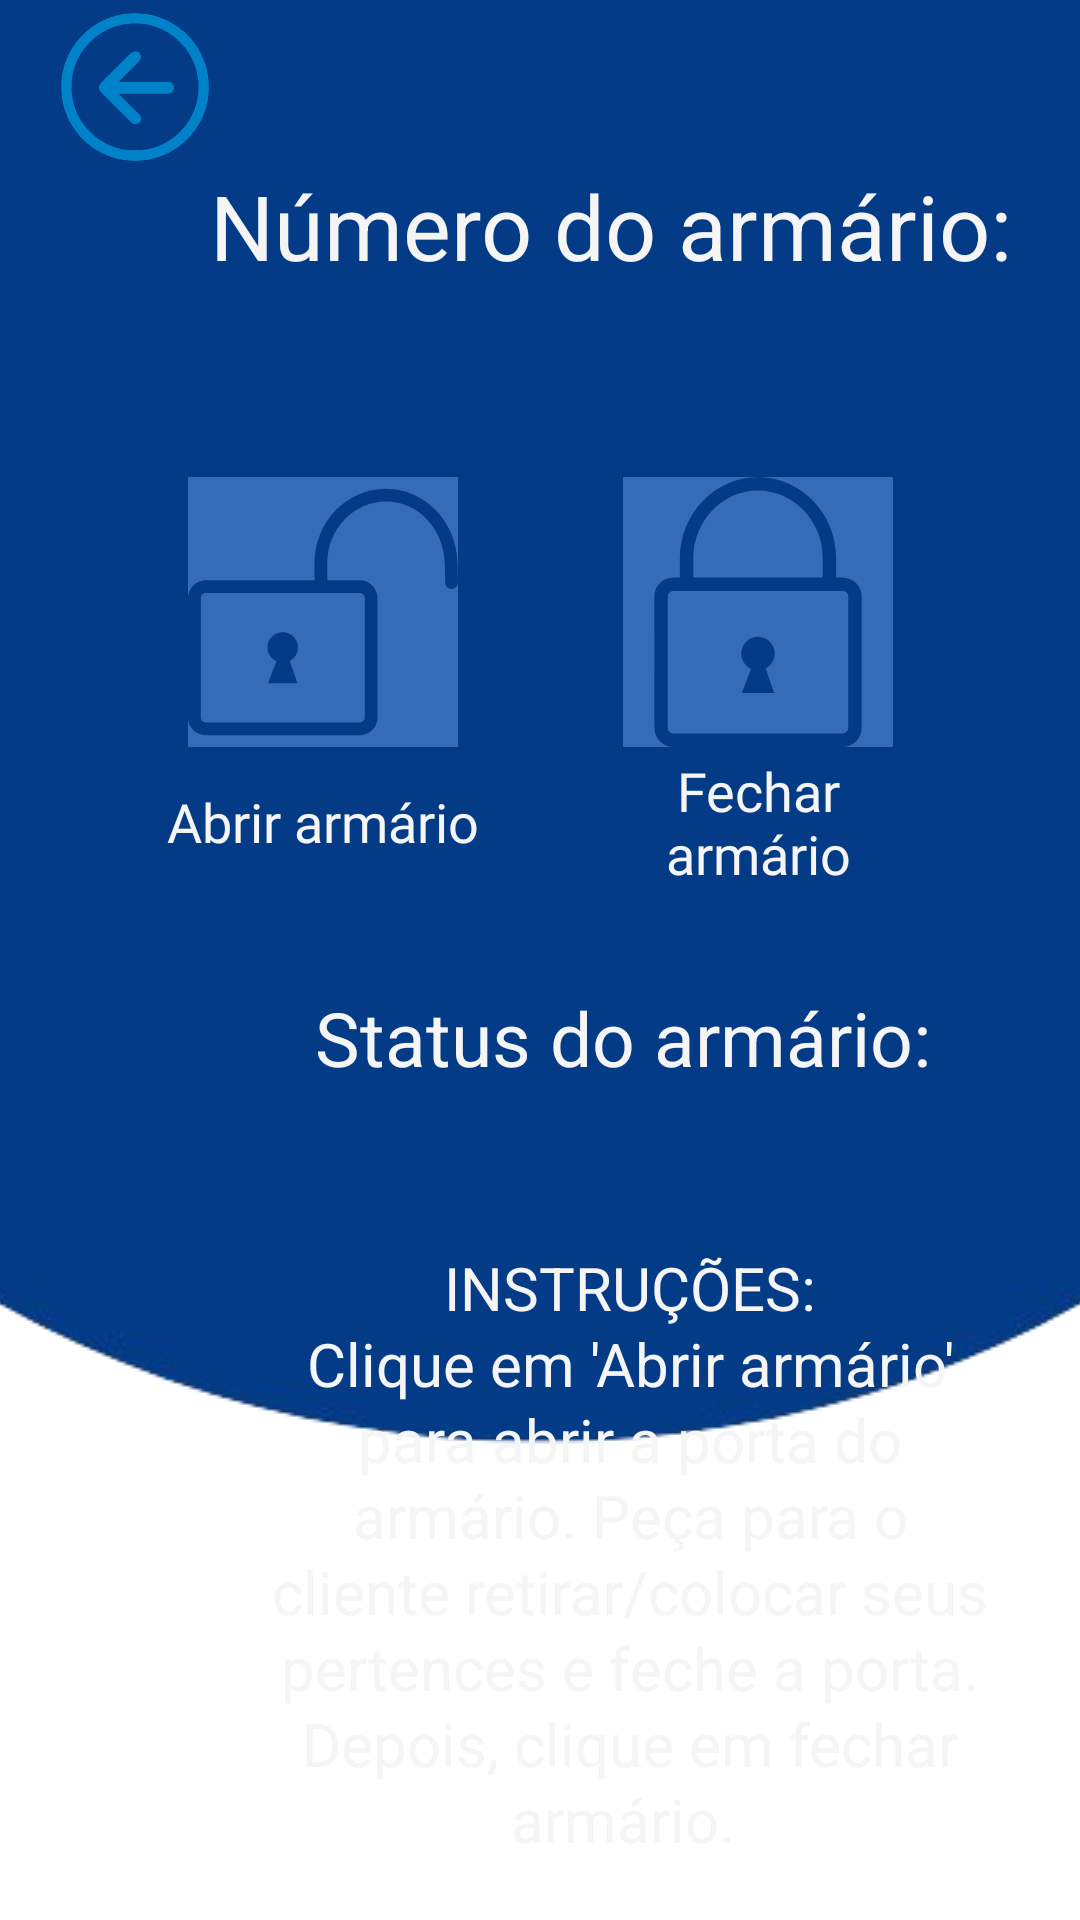

Icons on this 1080px×1920px Android screen, each with its box as (x1,y1,x2,y2):
lock: (623,477,893,747)
lock open: (188,477,458,747)
seta voltar: (61,13,209,161)
